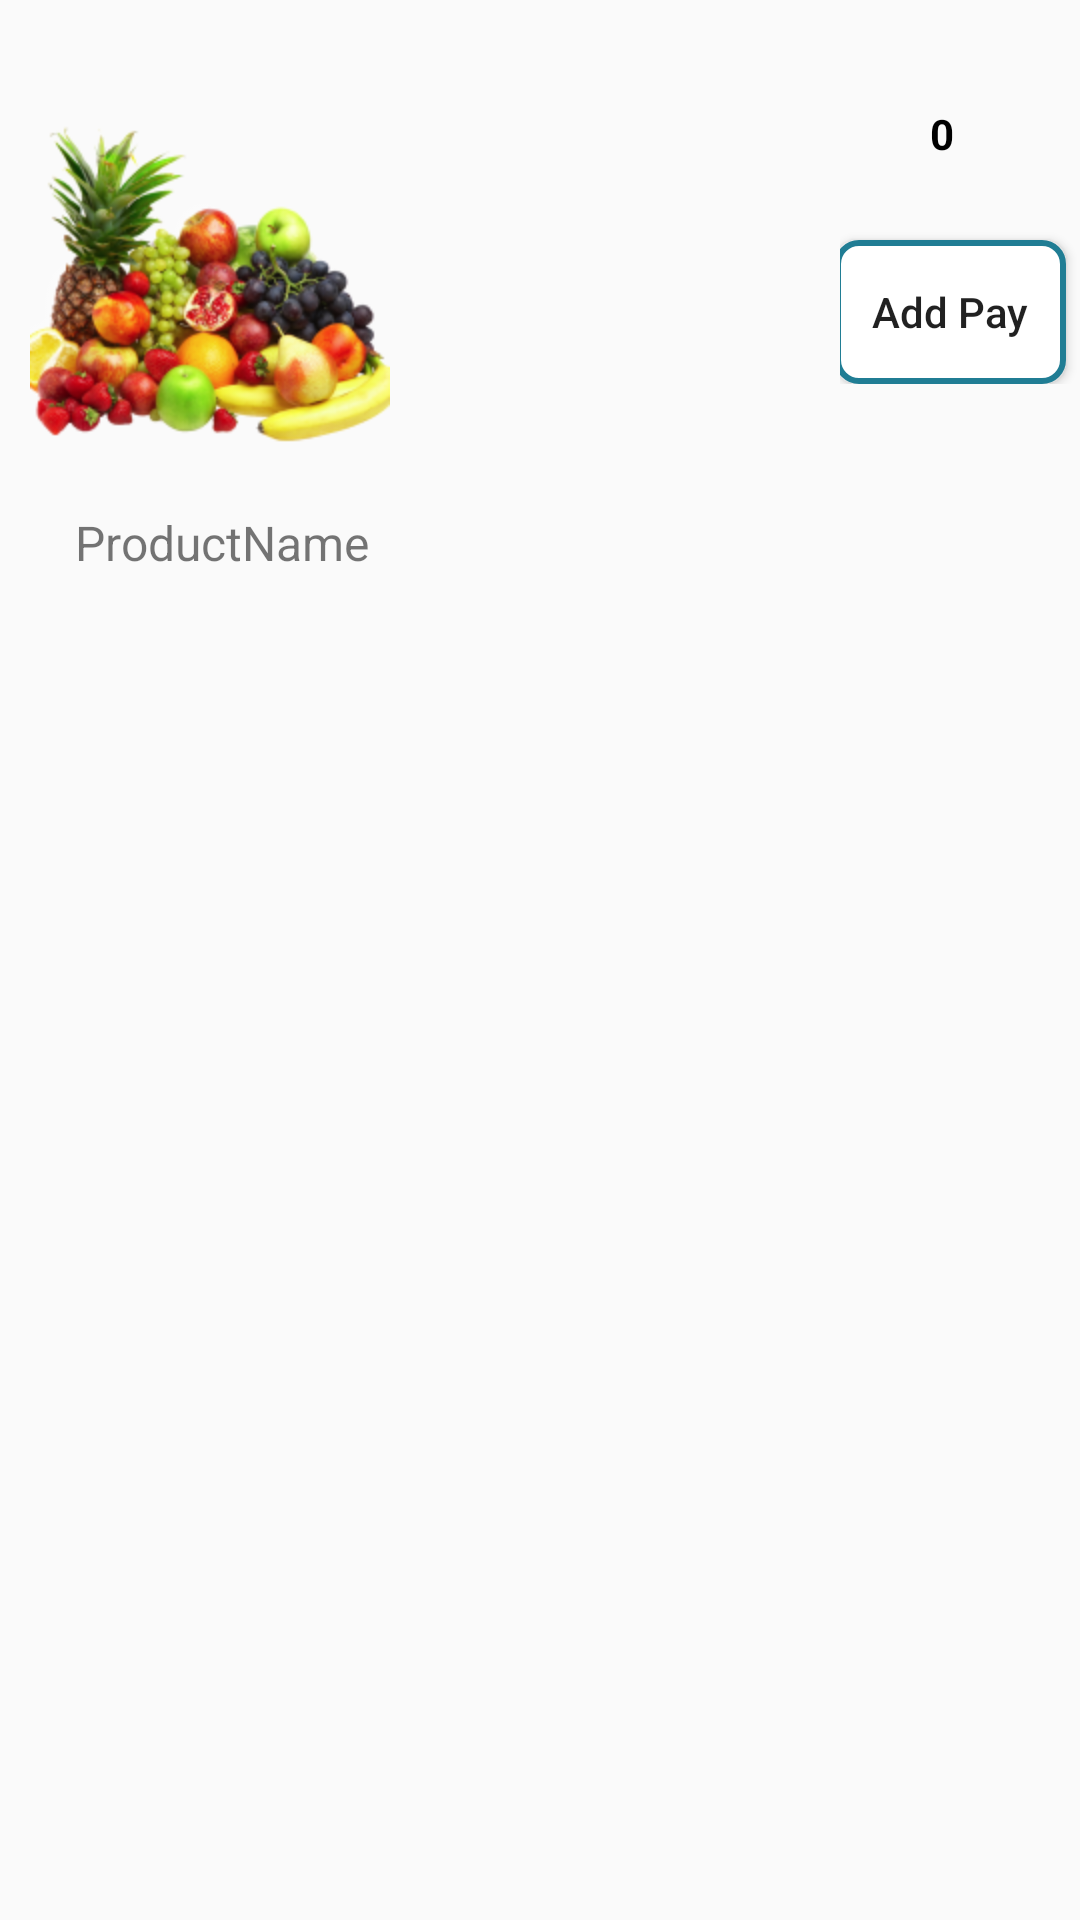

Point at icon controls on the screen. Image size 1080x1920, points as (x=x, y=y).
fruits: (x=210, y=285)
